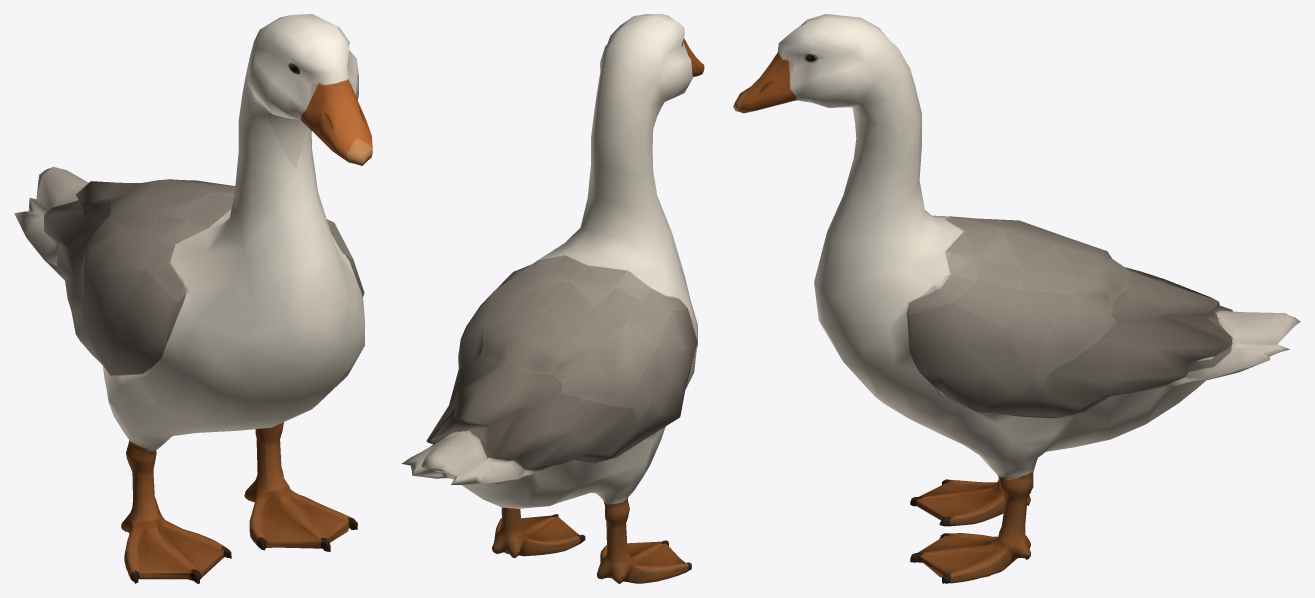
File: goose.glb
3 renders of one model, left to right at view 1: azimuth 30°, elevation 25°; view 2: azimuth 150°, elevation 25°; view 3: azimuth 270°, elevation 25°, orthographic. The views are drawn at different scales.
Parts seen in each view (by area): view 1: GOE_goose; view 2: GOE_goose; view 3: GOE_goose.
Part boxes in pixels (x1=…): GOE_goose: x1=14, y1=14, x2=372, y2=583; GOE_goose: x1=401, y1=14, x2=704, y2=583; GOE_goose: x1=733, y1=14, x2=1300, y2=583.
Bounding box in the file's own units: 0.4209 × 1 × 0.9938.
1 material, 1 textured.
